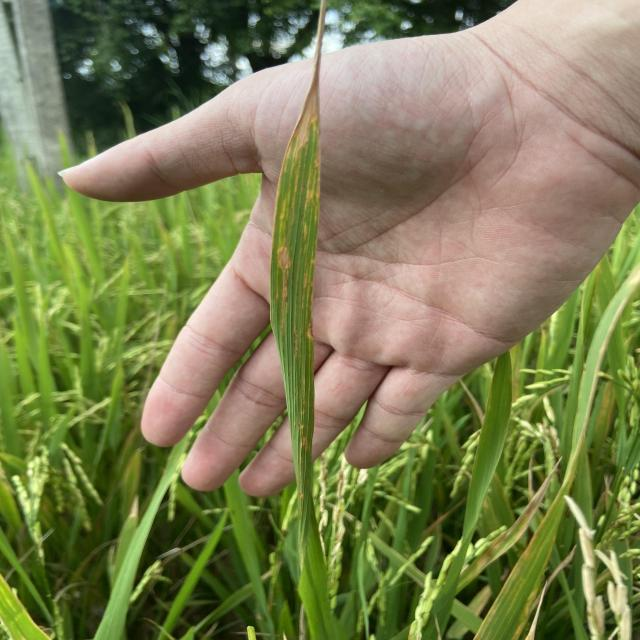Dom soc vi khuan: (276, 237, 293, 337), (304, 170, 317, 212), (306, 291, 314, 341), (314, 127, 321, 168), (293, 163, 301, 196), (280, 199, 287, 220), (293, 329, 298, 358), (303, 273, 308, 289), (303, 223, 307, 239)
